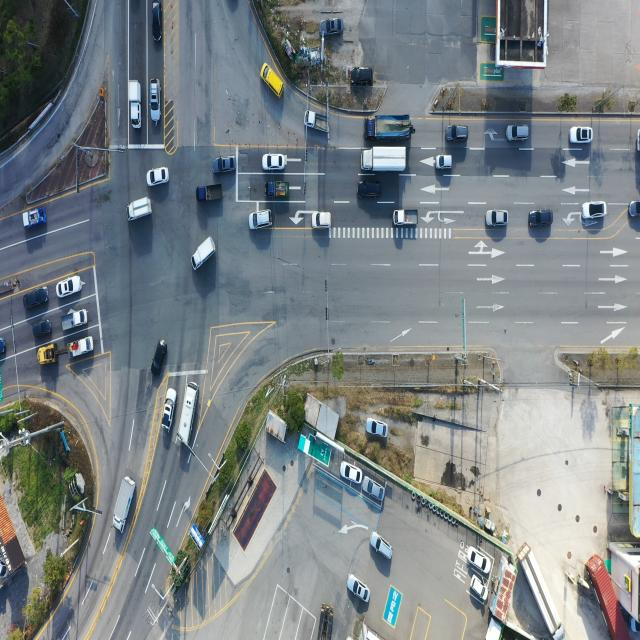car: (262, 62, 284, 100), (162, 388, 178, 432), (347, 574, 369, 603), (371, 531, 392, 561), (58, 275, 82, 299), (24, 286, 48, 309), (364, 478, 385, 504), (470, 549, 491, 575), (152, 340, 166, 379), (581, 202, 607, 222), (470, 576, 488, 603), (341, 462, 363, 484), (249, 210, 273, 230), (528, 209, 554, 227), (146, 168, 169, 188), (351, 66, 374, 86), (213, 157, 237, 176), (365, 418, 387, 438), (149, 80, 159, 124), (357, 181, 381, 199), (152, 0, 162, 42), (264, 155, 287, 173), (486, 209, 509, 227), (569, 128, 592, 146), (321, 18, 344, 36), (508, 125, 531, 142), (447, 126, 470, 143), (312, 211, 332, 230), (33, 320, 53, 338), (436, 156, 454, 171), (629, 201, 640, 220), (0, 338, 7, 358)
medium_truck: (520, 547, 566, 640), (114, 475, 138, 533), (365, 112, 412, 141), (360, 147, 408, 173), (318, 599, 332, 640)
small_bus: (176, 381, 200, 446)
small_truck: (191, 236, 215, 272), (126, 78, 143, 128), (304, 108, 330, 133), (60, 308, 87, 332), (127, 198, 152, 222), (69, 336, 95, 359), (22, 207, 46, 229), (393, 208, 418, 227), (198, 183, 224, 201), (266, 180, 288, 198)
